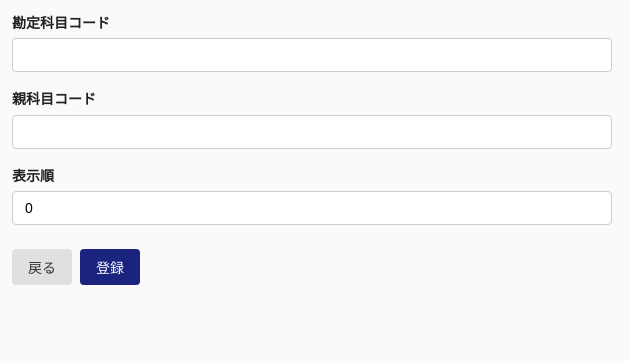
it: CreateAccountStructureForm › 登録失敗時にエラーメッセージを表示する
Type "1000" into the field labelled "勘定科目コード" at (312, 55), box [12,38,612,72]
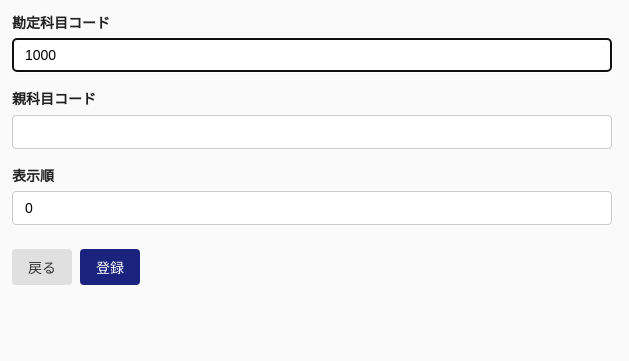
Click the button "登録" at (110, 267), box [80,249,140,285]
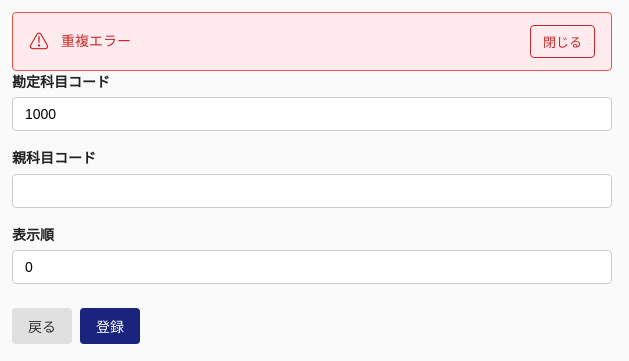
Now the text "重複エラー" is shown, box [61,33,131,49]
